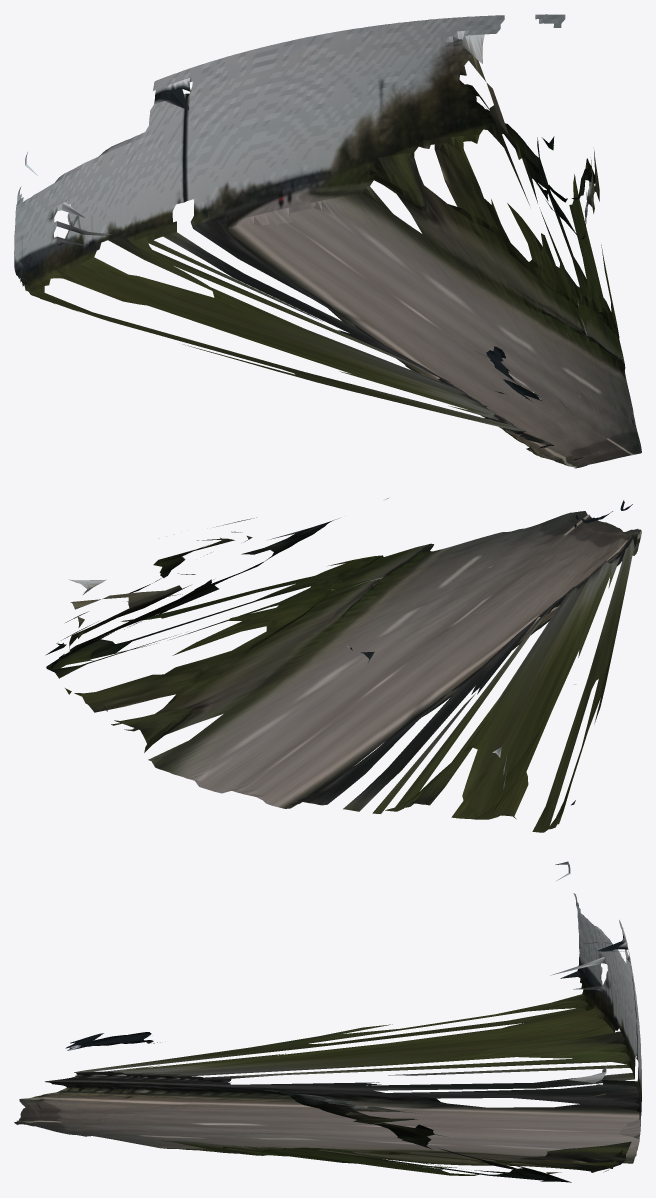
3 views of the same model, one above another, from view 1: azimuth 30°, elevation 25°; view 2: azimuth 150°, elevation 25°; view 3: azimuth 270°, elevation 25° (orthographic). The views are drawn at different scales.
Parts seen in each view (by area): view 1: defaultobject; view 2: defaultobject; view 3: defaultobject.
Part boxes in pixels (<box>): defaultobject: <box>14,14,641,468</box>; defaultobject: <box>45,498,641,832</box>; defaultobject: <box>14,861,641,1182</box>.
Size of the model in its own units: 40.23 by 12.47 by 44.95.
Materials: 1 (1 with a texture image).
